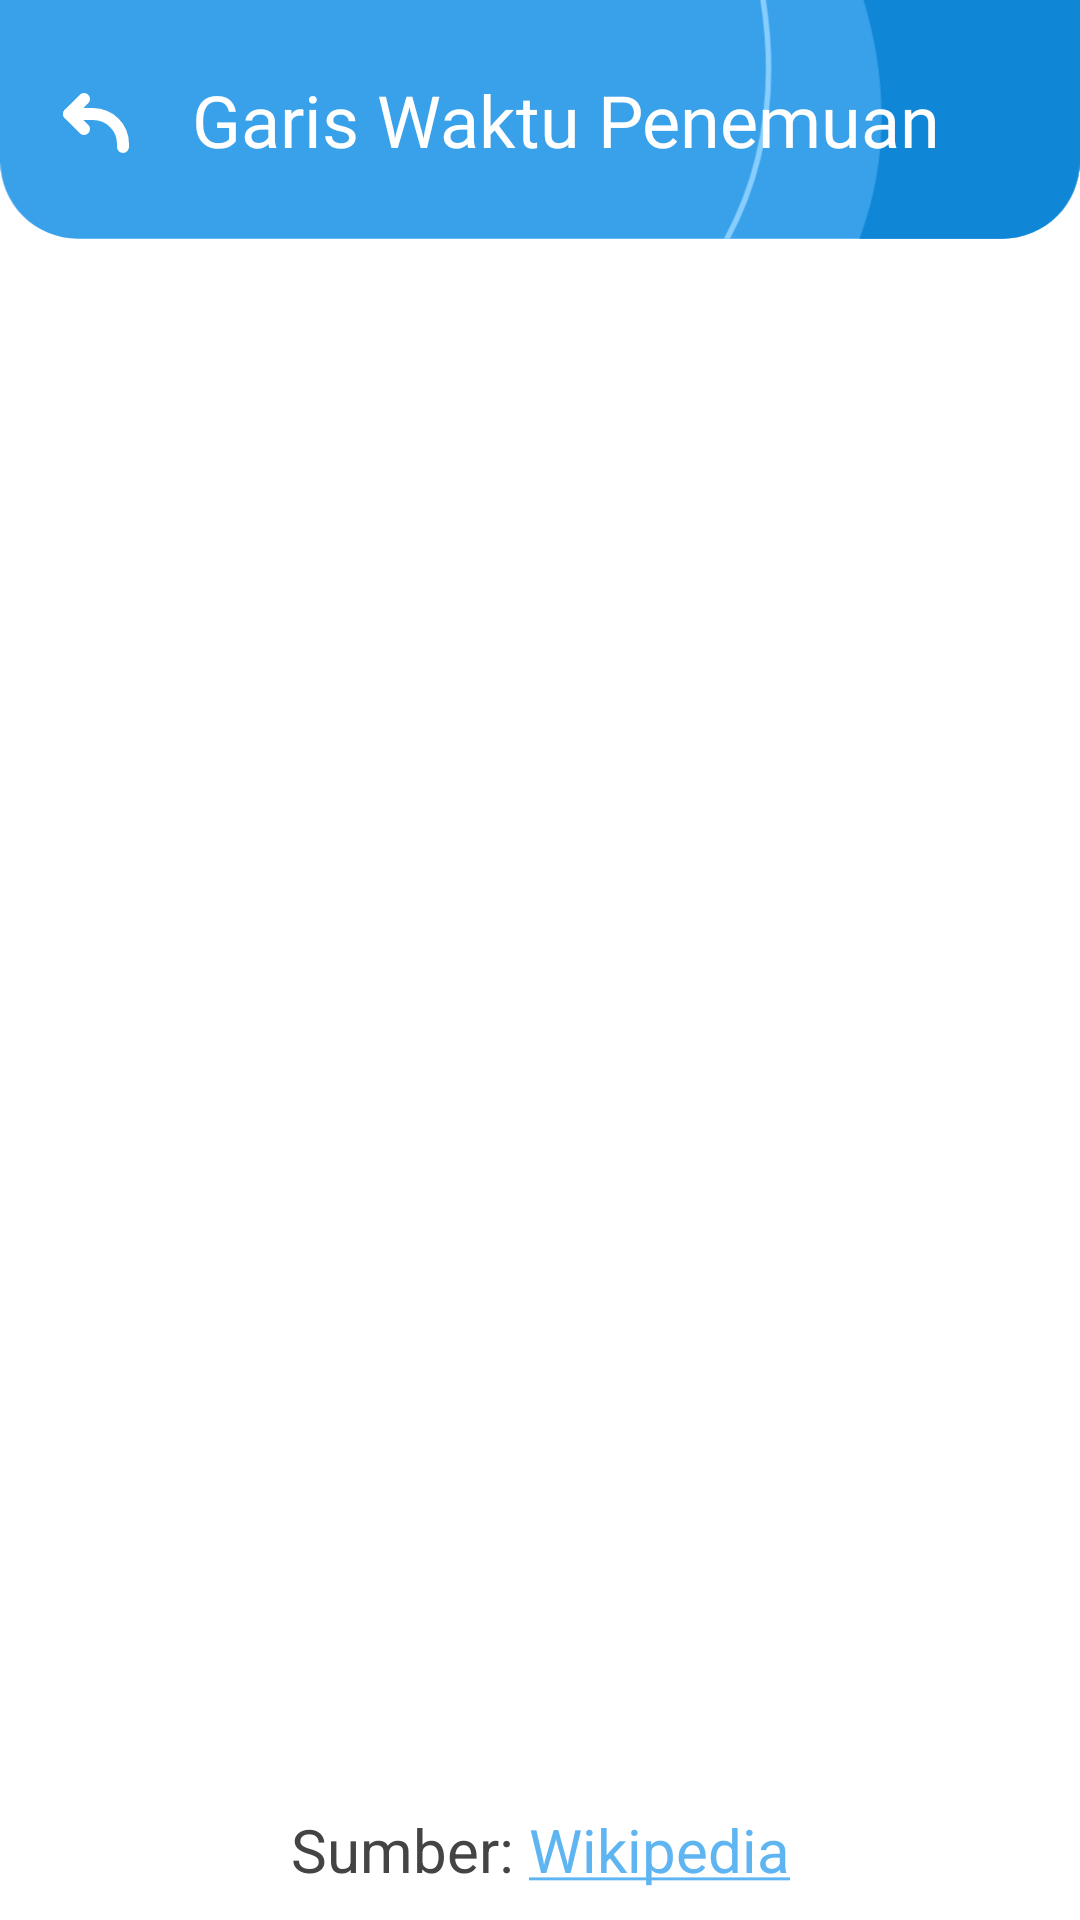

Screen size 1080 x 1920. Icon name, then its center in pixels as point (x, y):
arrow back: point (96, 123)
